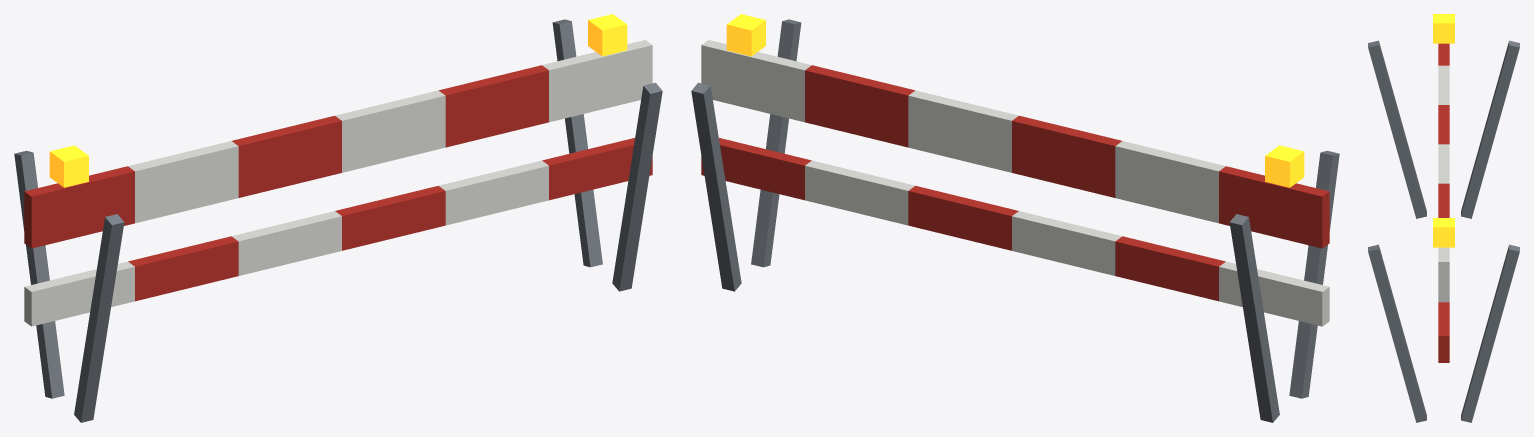
File: barrier_police.glb
3 renders of one model, left to right at view 1: azimuth 30°, elevation 25°; view 2: azimuth 150°, elevation 25°; view 3: azimuth 270°, elevation 25°, orthographic. The views are drawn at different scales.
Parts seen in each view (by area): view 1: barrier_police_Body; view 2: barrier_police_Body; view 3: barrier_police_Body.
Boxes of the visible parts, x1,y1,x2,y2 form: barrier_police_Body: [14, 14, 662, 422]; barrier_police_Body: [691, 14, 1339, 422]; barrier_police_Body: [1368, 14, 1519, 422].
Bounding box in the file's own units: 3 × 1.18 × 0.8179.
